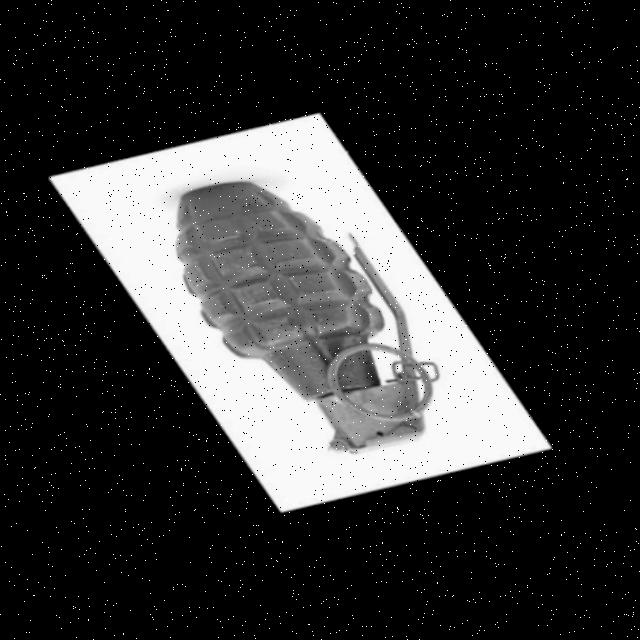grenade: (70, 139, 527, 500)
